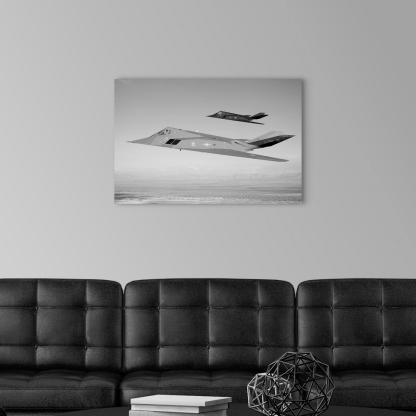F117: (127, 127, 297, 163), (207, 112, 270, 126)
